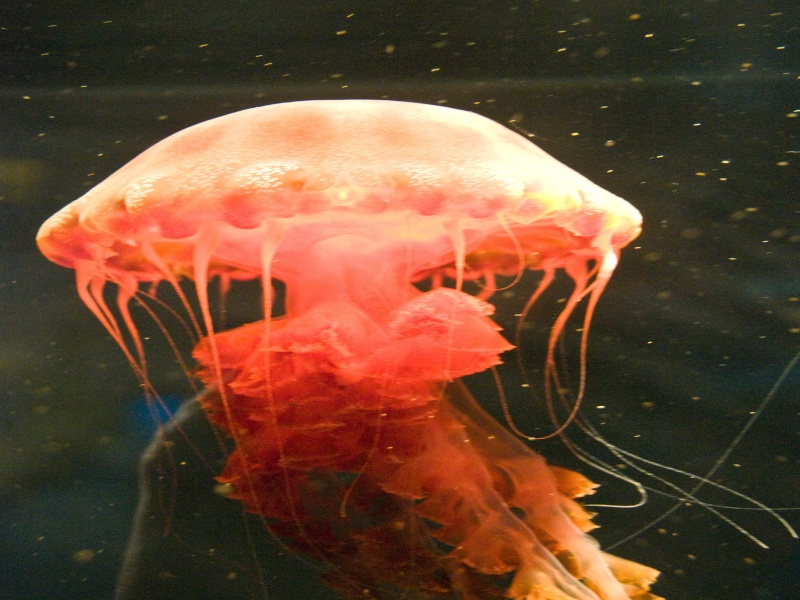Jellyfish: (28, 96, 650, 537)
